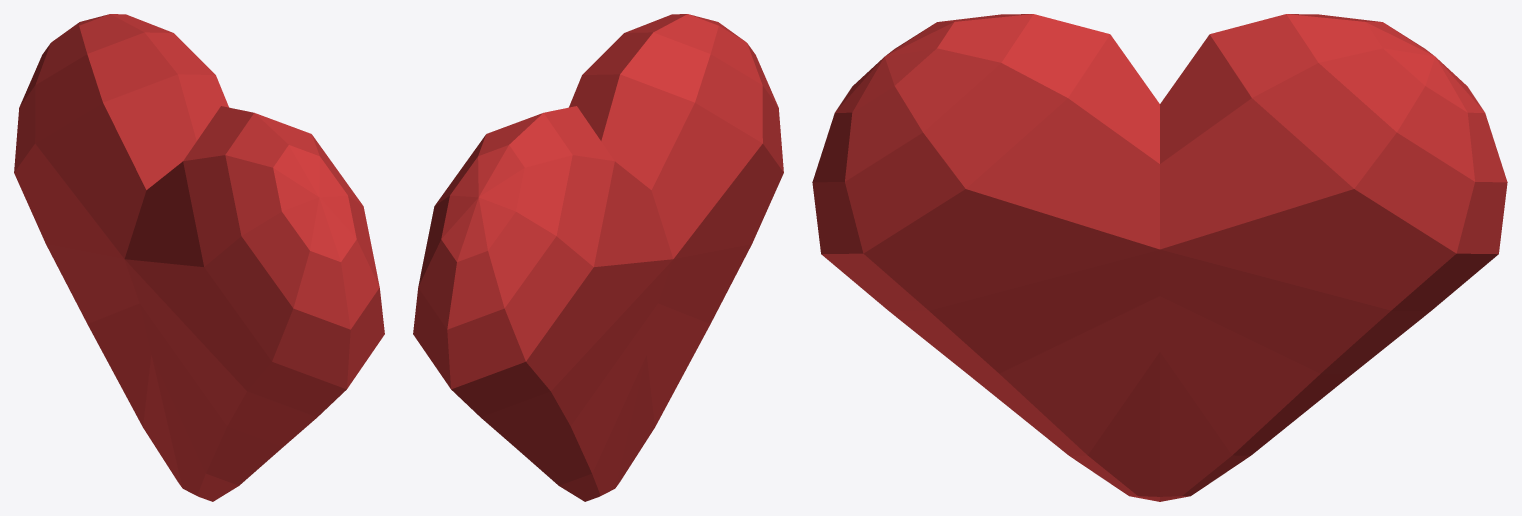
The model's file is bloon4.fbx.
3 renders of one model, left to right at view 1: azimuth 30°, elevation 25°; view 2: azimuth 150°, elevation 25°; view 3: azimuth 270°, elevation 25°, orthographic. The views are drawn at different scales.
Parts seen in each view (by area): view 1: pSphere12; view 2: pSphere12; view 3: pSphere12.
Part boxes in pixels (x1,y1,x2,y2): pSphere12: (14,14,384,501); pSphere12: (413,14,783,501); pSphere12: (812,14,1507,501).
Bounding box in the file's own units: 0.5357 × 1.36 × 1.76.
